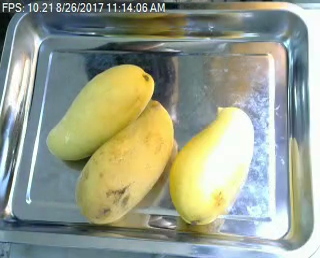Mango: (75, 97, 177, 229), (42, 62, 156, 162), (167, 107, 261, 224)
